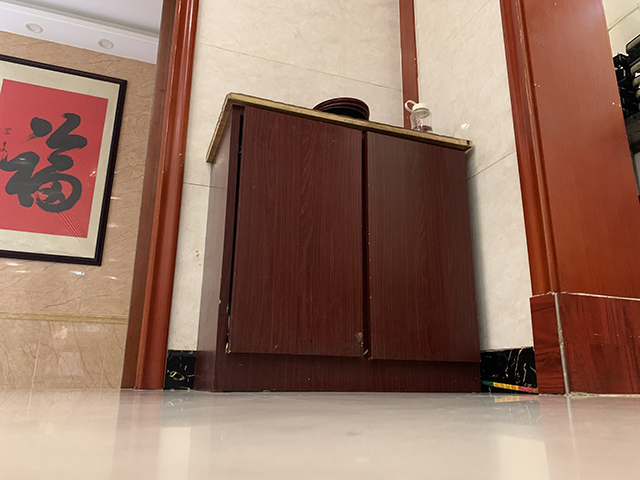cabinet: (194, 94, 481, 394)
